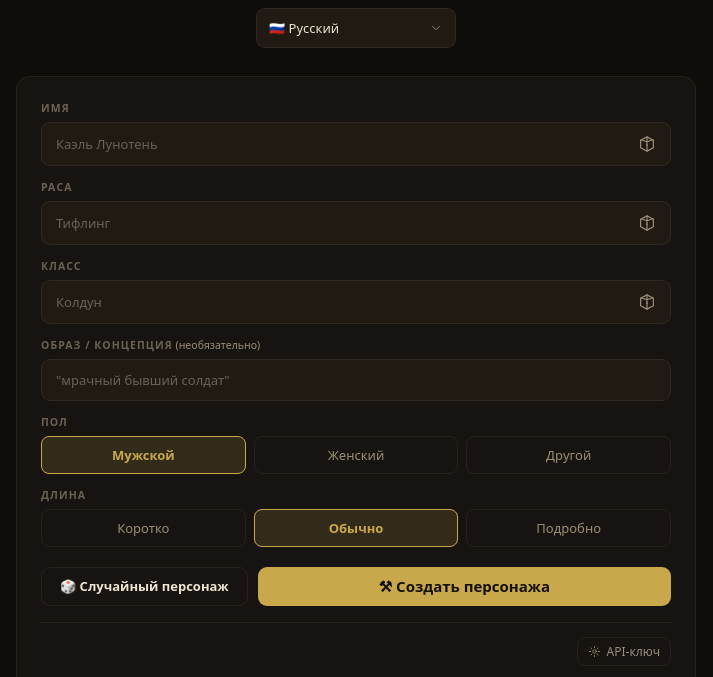
it: character-forge › regenerates a single field on a lens tab via mode "section"
Type "Kael" into the field with placeholder "Каэль Лунотень" at (340, 144), box [54,134,627,154]
(page scrolled)
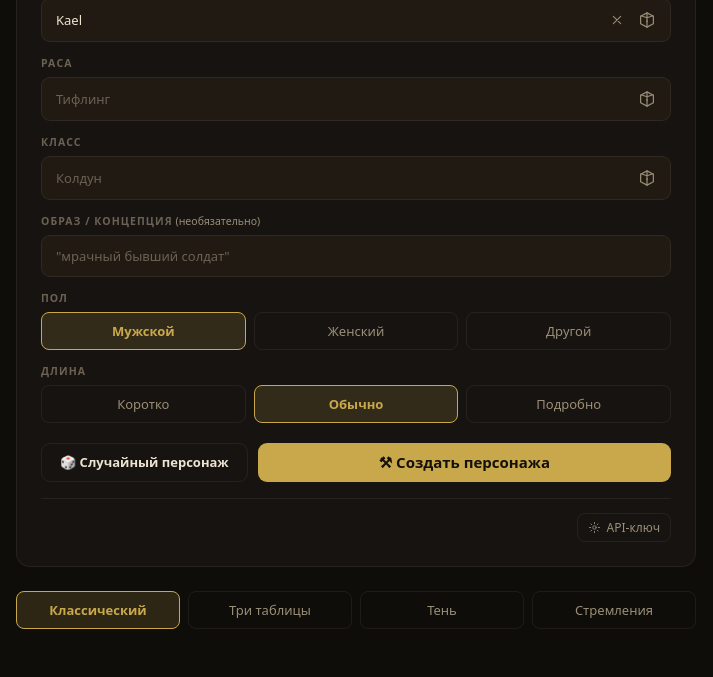
Click the button "Стремления" at (614, 610), box [532,591,696,629]
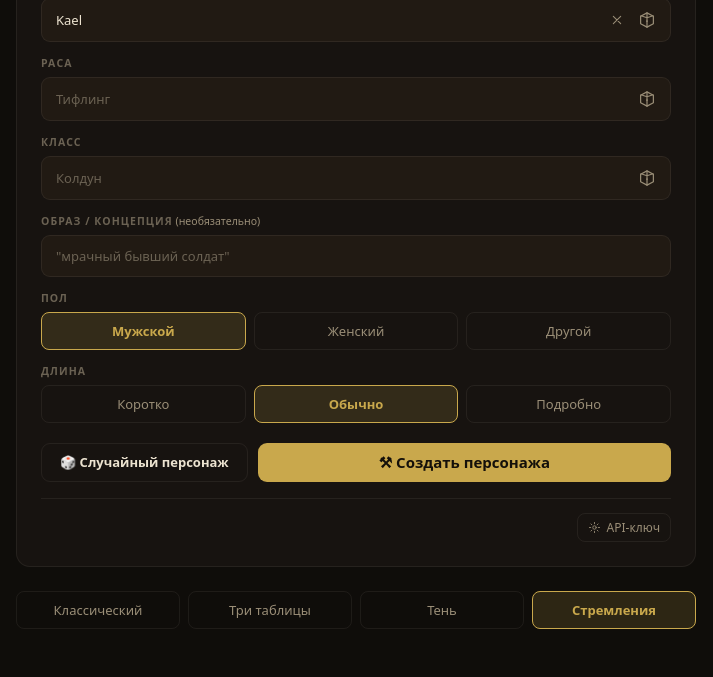
Click the button "⚒ Создать персонажа" at (464, 462), box [258,443,671,482]
(page scrolled)
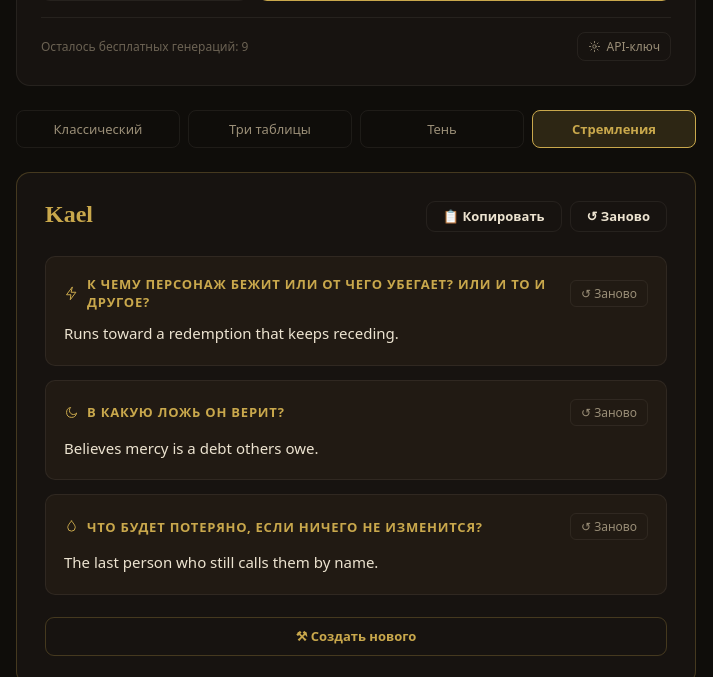
Expected: the text "Runs toward a redemption that keeps receding." is shown, [64,323,399,343]
Note: click the ↺ button inside the "flees" field card
Click the 2nd button "↺ Заново" at (609, 293), box [570,280,648,306]
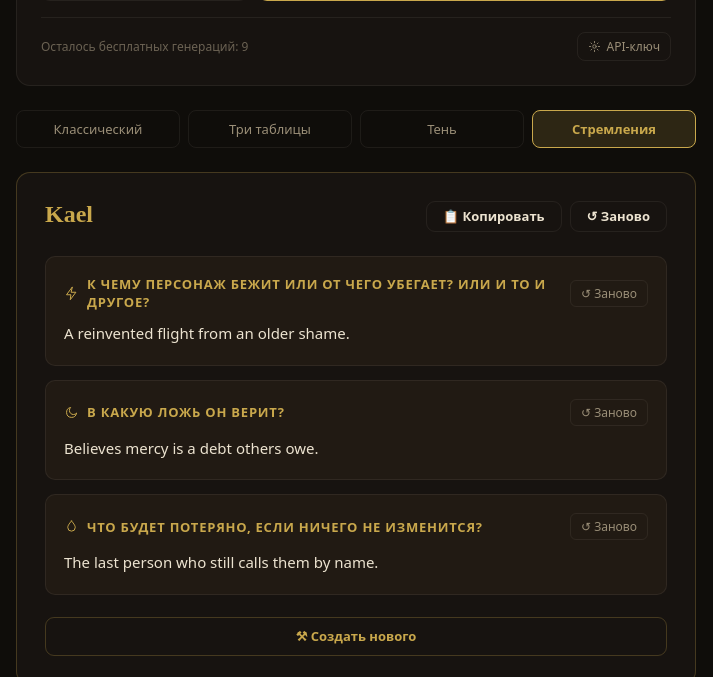
Expected: the text "A reinvented flight from an older shame." is shown, [64,323,350,343]
